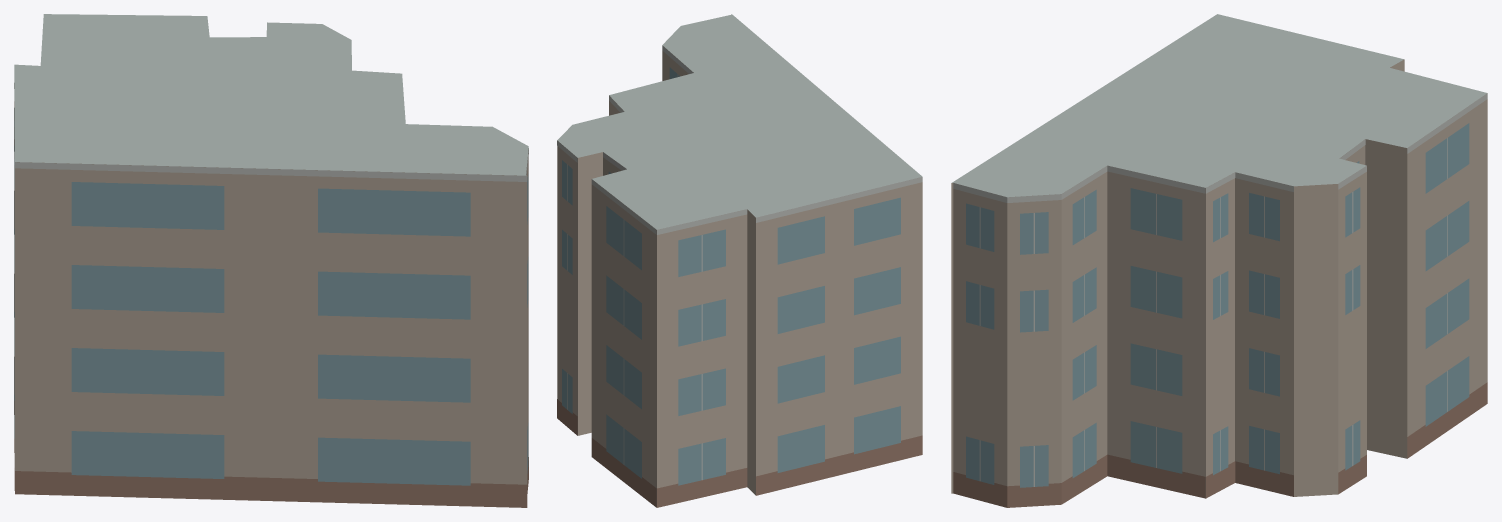
Rendered from survey-upis-32818158.glb.
3 renders of one model, left to right at view 1: azimuth 30°, elevation 25°; view 2: azimuth 150°, elevation 25°; view 3: azimuth 270°, elevation 25°, orthographic. The views are drawn at different scales.
Visible parts, largest first — view 1: survey-upis-32818158.tmp; view 2: survey-upis-32818158.tmp; view 3: survey-upis-32818158.tmp.
Boxes of the visible parts, box(x1,y1,x2,y2) form: survey-upis-32818158.tmp: box(14, 14, 528, 507); survey-upis-32818158.tmp: box(557, 14, 922, 507); survey-upis-32818158.tmp: box(951, 14, 1487, 507).
Bounding box in the file's own units: 16.2 × 12.8 × 20.03.
